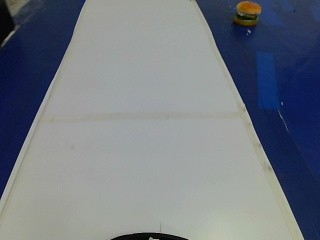burger: (228, 0, 262, 29)
